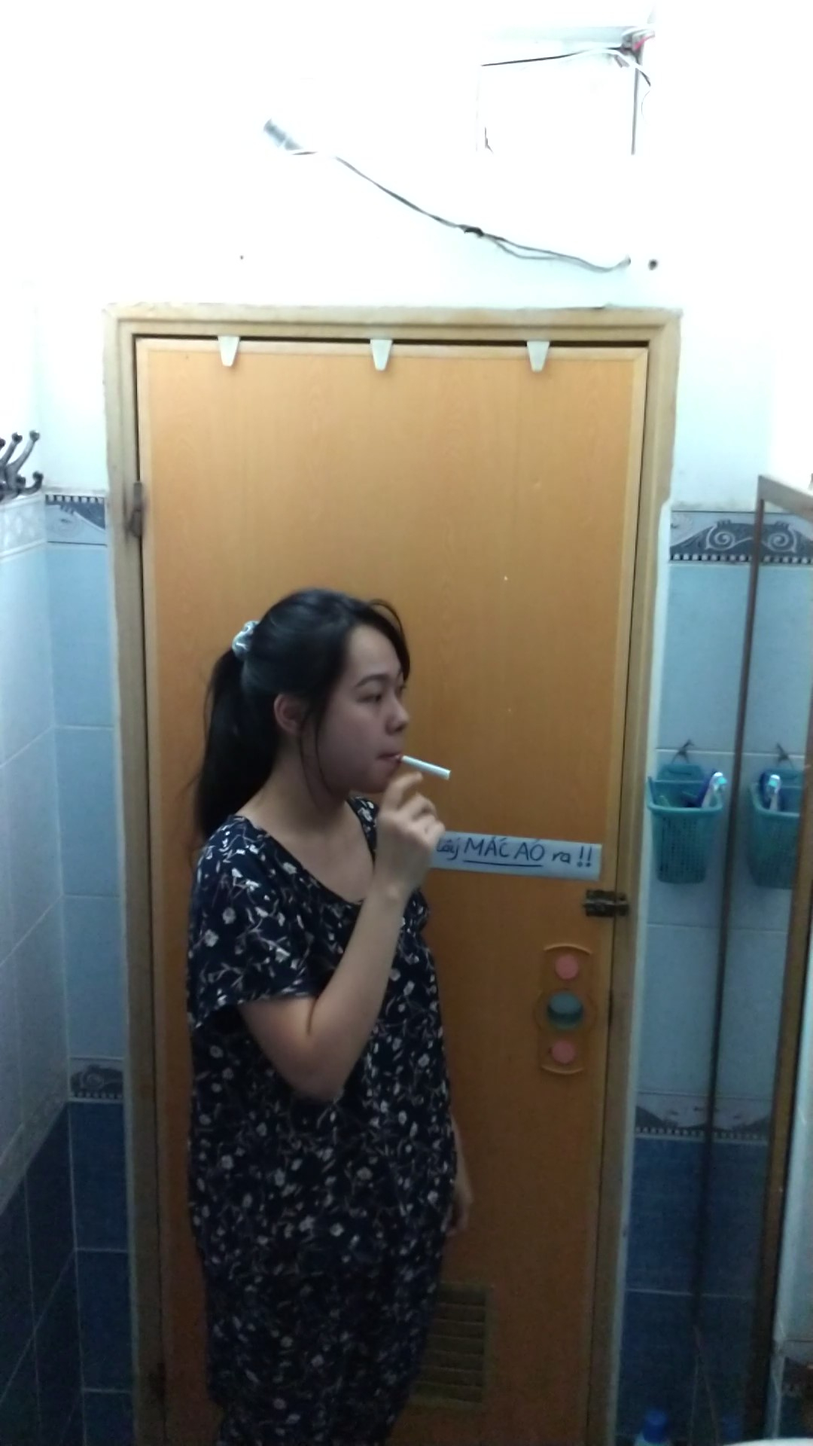cigarette: (394, 750, 456, 786)
person: (180, 586, 467, 1438)
